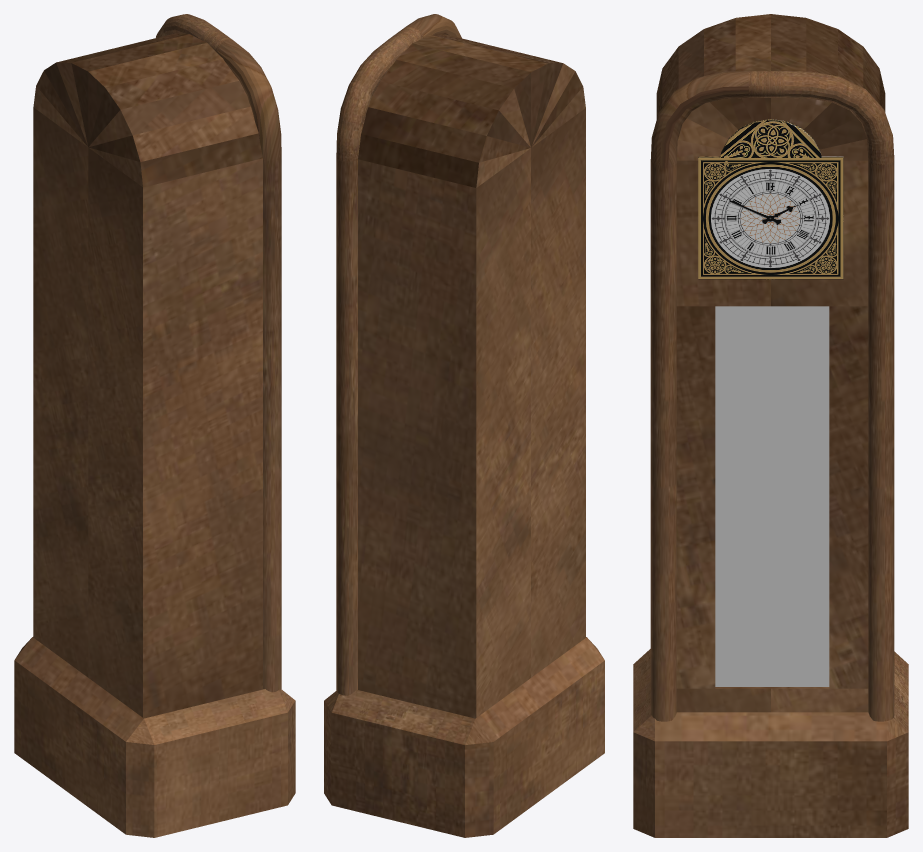
The model's file is Horloge.fbx.
3 renders of one model, left to right at view 1: azimuth 30°, elevation 25°; view 2: azimuth 150°, elevation 25°; view 3: azimuth 270°, elevation 25°, orthographic. The views are drawn at different scales.
Parts seen in each view (by area): view 1: pCube4; view 2: pCube4; view 3: pCube4.
Part boxes in pixels (bbox=[...]): pCube4: bbox=[14, 14, 295, 837]; pCube4: bbox=[324, 14, 604, 837]; pCube4: bbox=[633, 14, 908, 837].
Size of the model in its own units: 2.34 by 9.57 by 3.17.
Materials: 3 (2 with a texture image).
